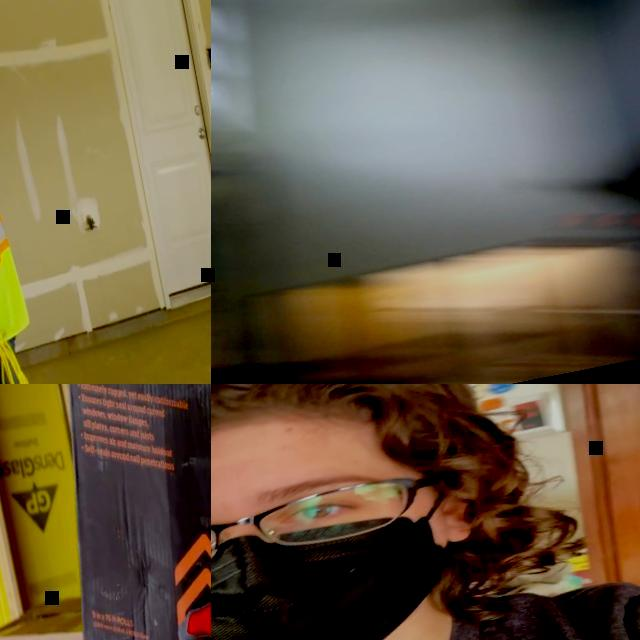mask: (211, 489, 478, 640)
no_helmet: (211, 384, 466, 513)
no_vest: (211, 560, 640, 640)
person: (211, 384, 640, 640), (78, 384, 211, 640), (0, 0, 71, 384)
vest: (168, 384, 211, 640)
